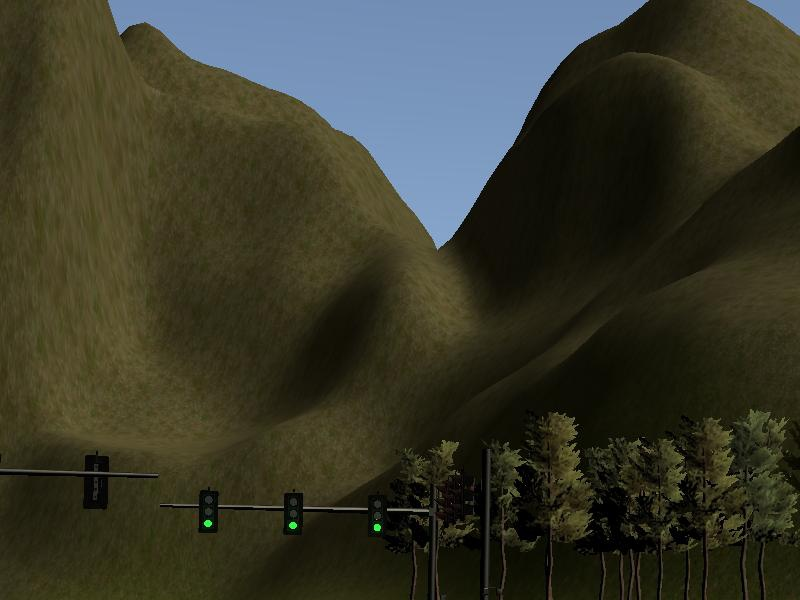green_light: (200, 490, 219, 531), (284, 495, 301, 534), (369, 497, 385, 535)
